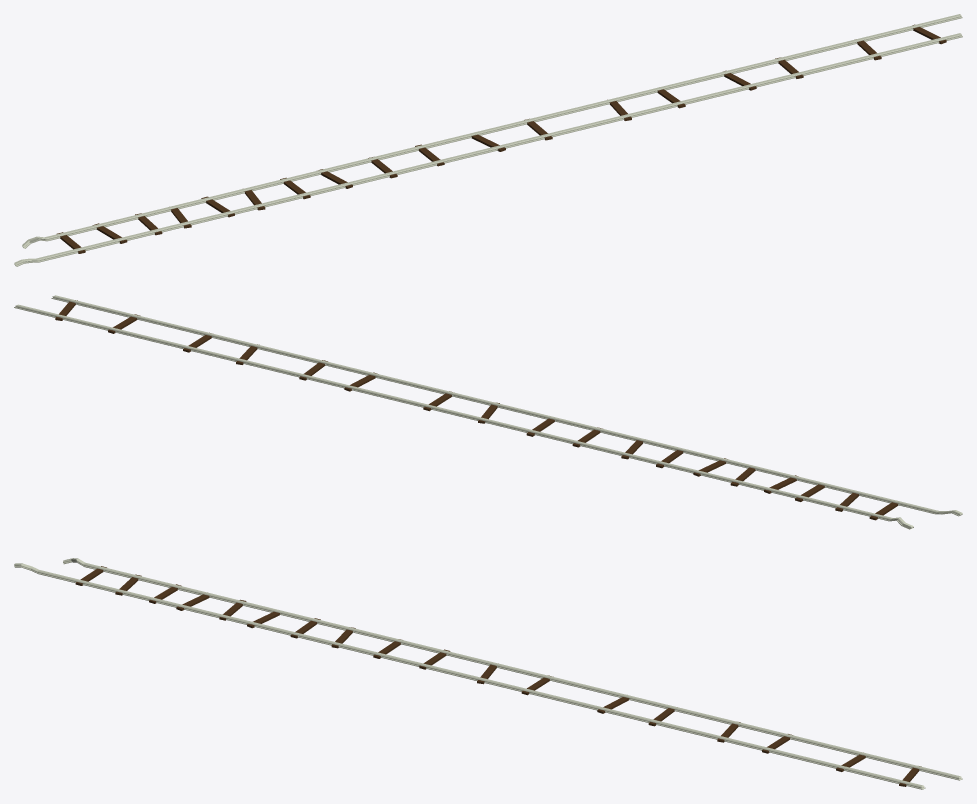
Rendered from rails.gltf.
The picture shows the model from 3 angles, top to bottom: view 1: azimuth 30°, elevation 25°; view 2: azimuth 150°, elevation 25°; view 3: azimuth 330°, elevation 25°; orthographic projection. The views are drawn at different scales.
Visible parts, largest first — view 1: Cube.010, Cube.020; view 2: Cube.010, Cube.020; view 3: Cube.010, Cube.020.
Part boxes in pixels (box(x1,y1,x2,y2)): Cube.010: box(14, 33, 962, 266); Cube.020: box(22, 14, 962, 248); Cube.010: box(51, 295, 962, 516); Cube.020: box(14, 304, 913, 529); Cube.010: box(14, 563, 925, 789); Cube.020: box(63, 558, 962, 780).
Bounding box in the file's own units: 92.28 × 0.8602 × 4.25.
